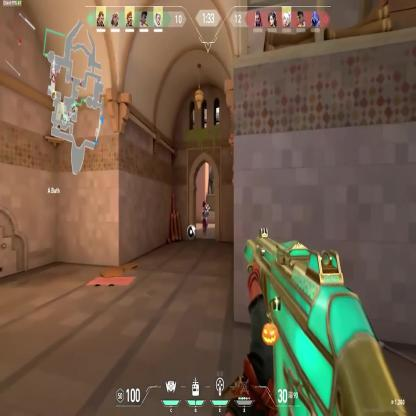enemy: (200, 199, 209, 233)
enemy_head: (204, 203, 206, 209)
